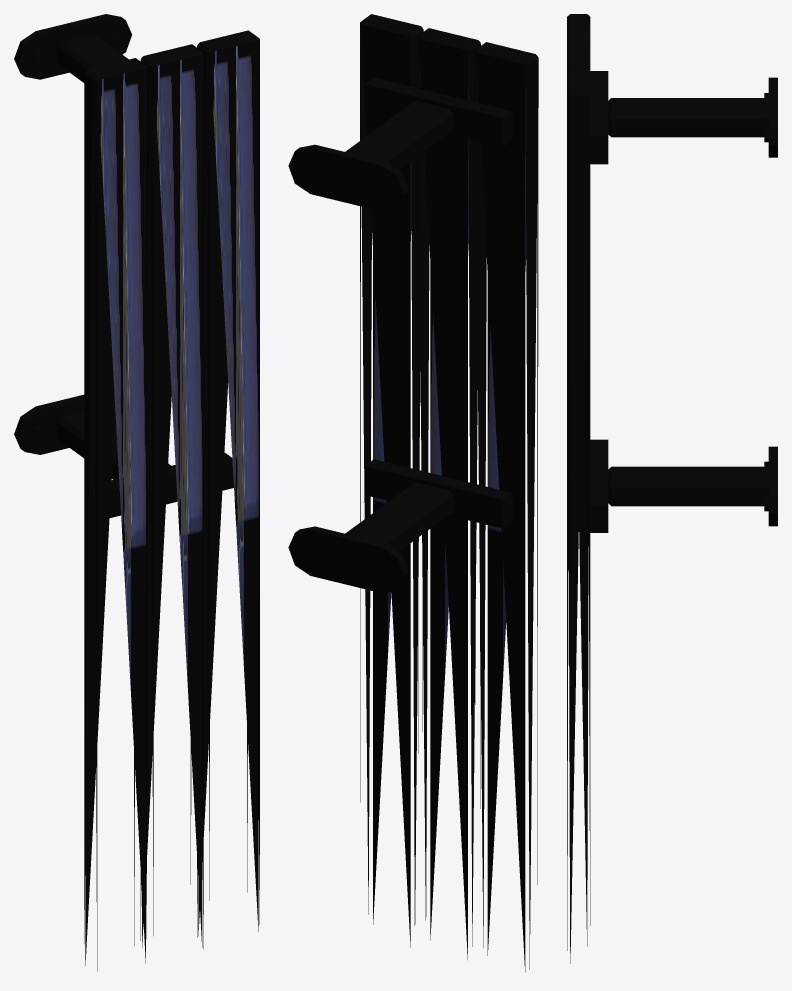
3 views of the same model, side by side, from view 1: azimuth 30°, elevation 25°; view 2: azimuth 150°, elevation 25°; view 3: azimuth 270°, elevation 25° (orthographic). The views are drawn at different scales.
Size of the model in its own units: 0.368 by 1.89 by 0.409.
